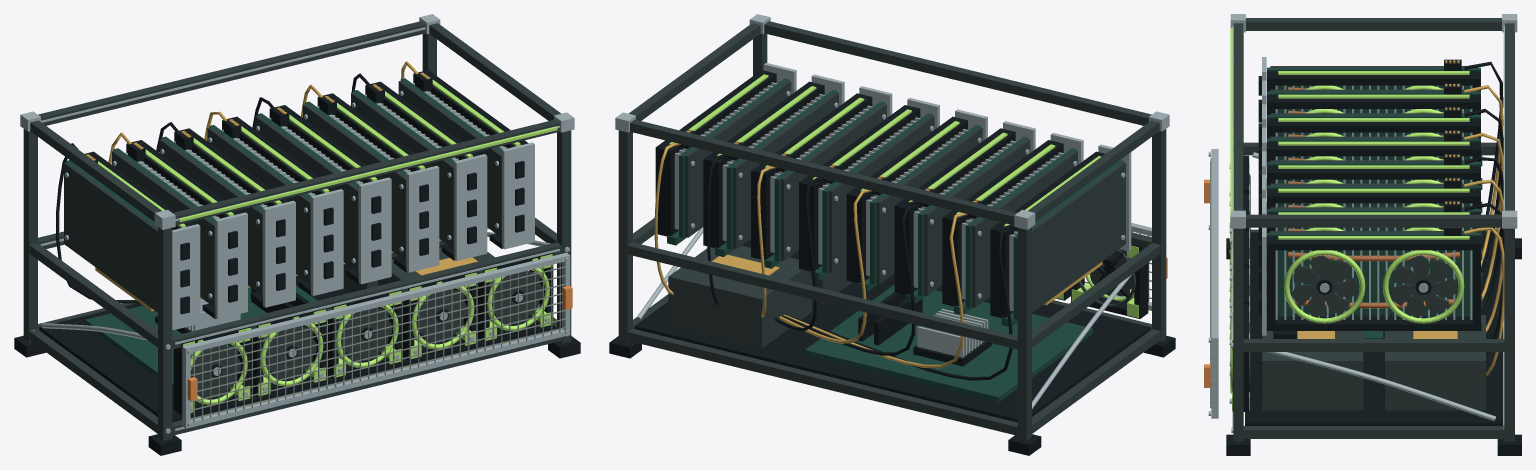
File: rig-8-mesh-none.glb
3 renders of one model, left to right at view 1: azimuth 30°, elevation 25°; view 2: azimuth 150°, elevation 25°; view 3: azimuth 270°, elevation 25°, orthographic.
Visible parts, largest first — view 1: Anodized graphite (×6), Brushed aluminium (×10), Rubber and ABS (×14), gpu-dual (×8), Filter fibres, Lime accents (×5), Circuit board, rig-8-mesh-none, slot-cable-1; view 2: Anodized graphite, Rubber and ABS (×10), gpu-dual (×8), Brushed aluminium (×9), Circuit board, slot-cable-1, slot-cable-2, slot-cable-3, slot-cable-4, slot-cable-5, Lime accents, Contacts (+3 smaller); view 3: Anodized graphite (×3), Rubber and ABS (×10), gpu-dual (×8), Lime accents (×8), Brushed aluminium (×3), Copper heat pipes, rig-8-mesh-none, Contacts, slot-cable-8, slot-cable-1, slot-cable-2, slot-cable-3 (+6 smaller).
Boxes of the visible parts, x1,y1,x2,y2 form: Anodized graphite (×6): (23,21,571,440); Brushed aluminium (×10): (20,14,574,433); Rubber and ABS (×14): (14,70,580,455); gpu-dual (×8): (64,78,502,312); Filter fibres: (190,263,565,421); Lime accents (×5): (183,254,552,412); Circuit board: (85,285,346,389); rig-8-mesh-none: (178,126,557,222); slot-cable-1: (55,143,299,303); Anodized graphite: (618,21,1166,440); Rubber and ABS (×10): (609,70,1175,455); gpu-dual (×8): (679,78,1125,319); Brushed aluminium (×9): (615,14,1169,409); Circuit board: (667,230,1092,402); slot-cable-1: (784,224,1014,380); slot-cable-2: (783,213,967,368); slot-cable-3: (782,201,919,355); slot-cable-4: (779,189,871,343); slot-cable-5: (775,177,824,331); Lime accents: (1071,245,1138,317); Contacts: (712,254,779,275); Anodized graphite (×3): (1233,18,1514,441); Rubber and ABS (×10): (1226,59,1521,455); gpu-dual (×8): (1267,66,1480,316); Lime accents (×8): (1278,71,1469,323); Brushed aluminium (×3): (1211,14,1517,432); Copper heat pipes: (1288,252,1459,308); rig-8-mesh-none: (1230,28,1233,215); Contacts: (1297,331,1457,338); slot-cable-8: (1464,227,1504,376); slot-cable-1: (1464,61,1503,248); slot-cable-2: (1464,85,1503,266); slot-cable-3: (1464,109,1503,284).
Size of the model in its own units: 6.06 by 3.24 by 3.94.
